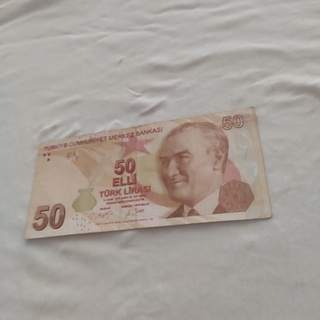50TLFront: (23, 106, 273, 239)
